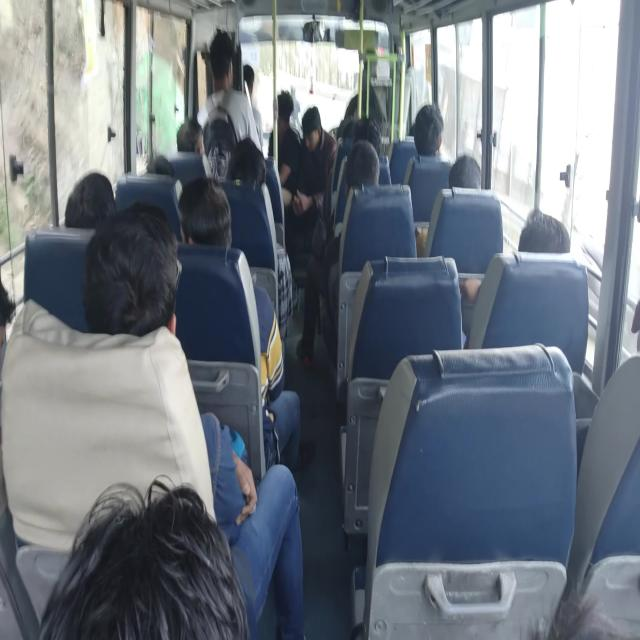person: (38, 474, 252, 639), (475, 208, 571, 356), (82, 206, 180, 341), (435, 156, 491, 328), (196, 28, 262, 162), (329, 131, 388, 260), (274, 90, 302, 256), (178, 176, 232, 250), (303, 85, 328, 224), (64, 172, 118, 231), (517, 210, 571, 256), (410, 103, 444, 158), (448, 153, 482, 191), (352, 116, 382, 158), (209, 29, 233, 68)
